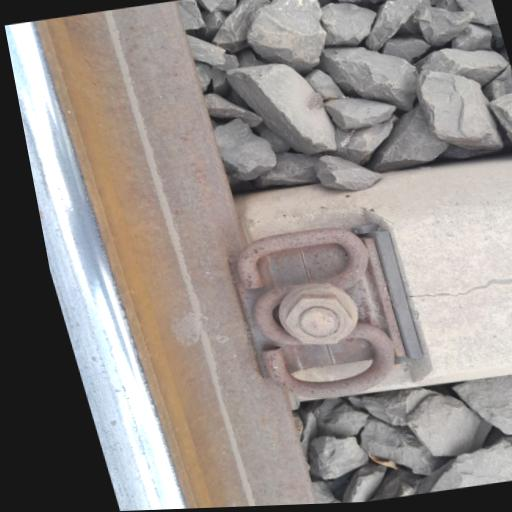bolt: (260, 277, 378, 365)
clip: (199, 214, 426, 414)
